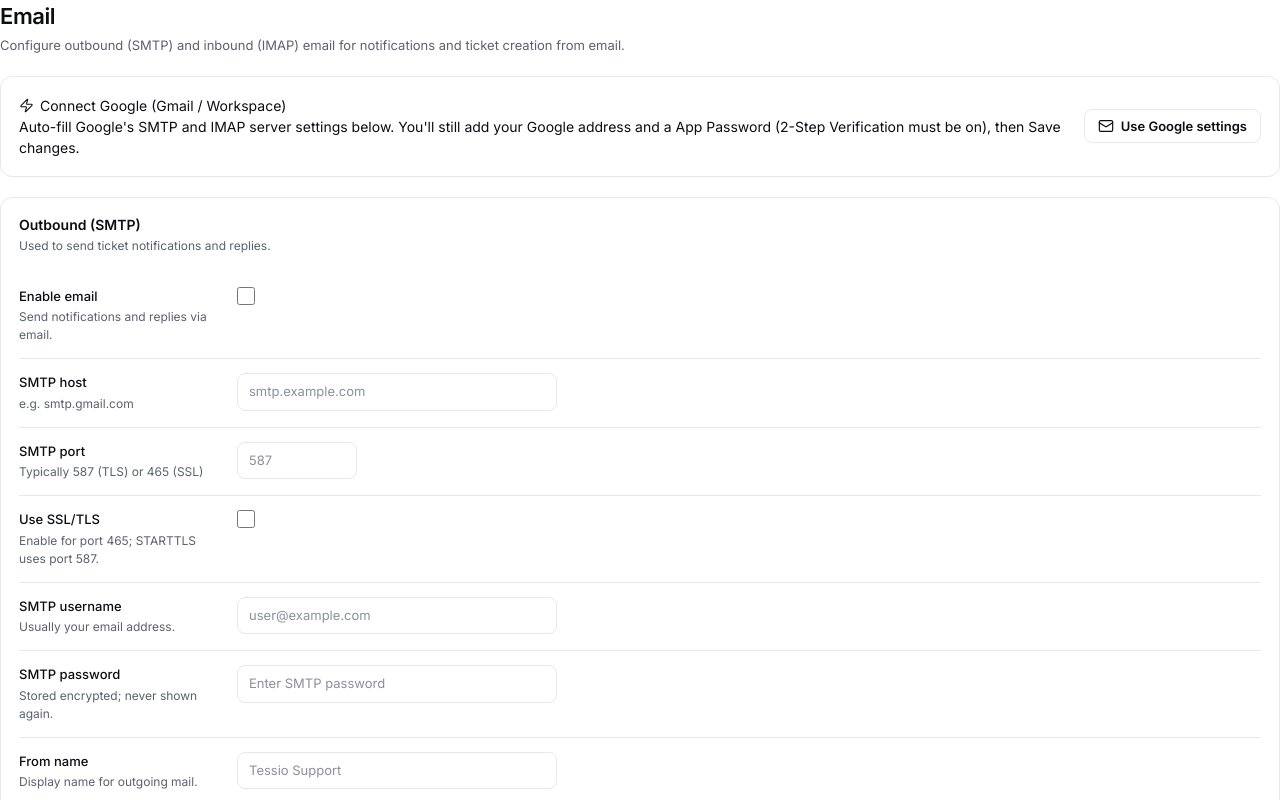
Test: EmailSettings — Connect Google button › fills the Gmail SMTP/IMAP fields when clicked
Expected: the field with placeholder "smtp.example.com" is empty, [237,373,557,410]
Click the button "Use Google settings" at (1172, 126), box [1084,109,1261,143]
(page scrolled)
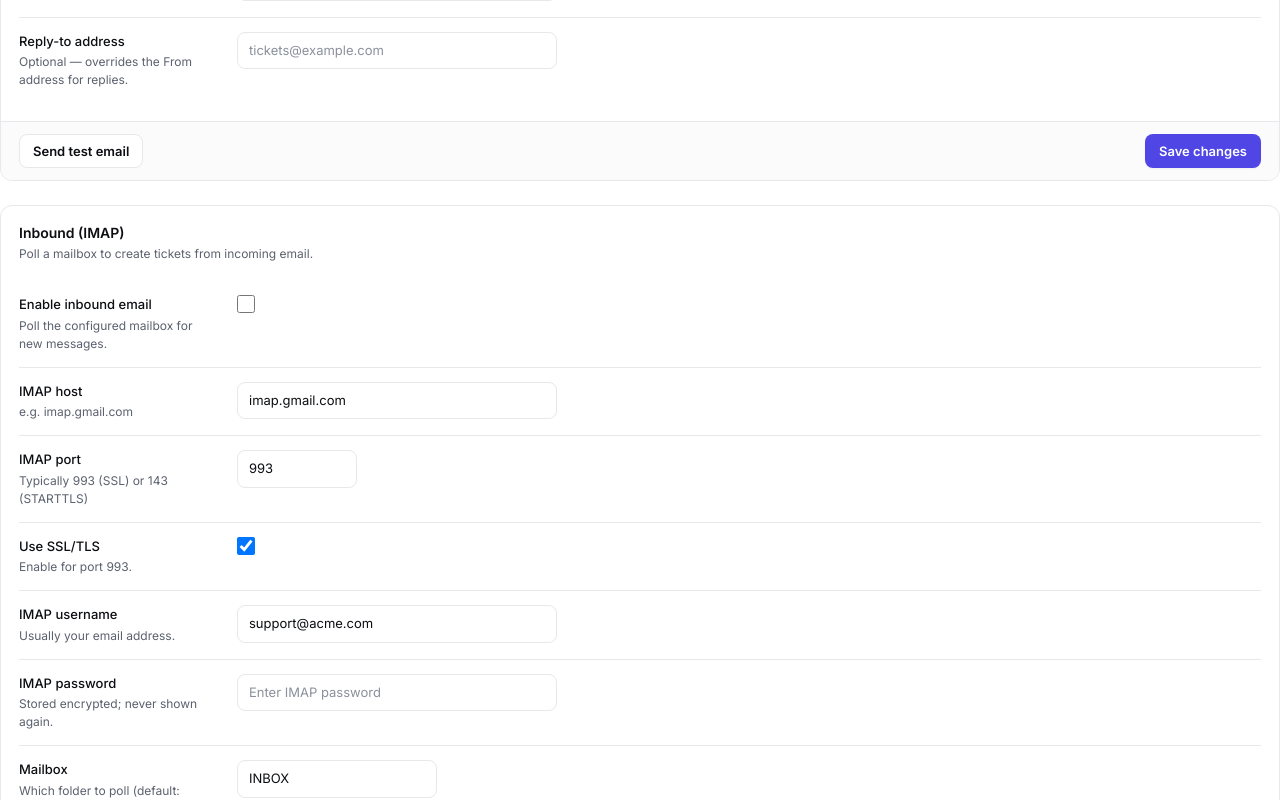
Expected: the field with placeholder "imap.example.com" next to "e.g. imap.gmail.com" holds "imap.gmail.com", [237,382,557,419]
